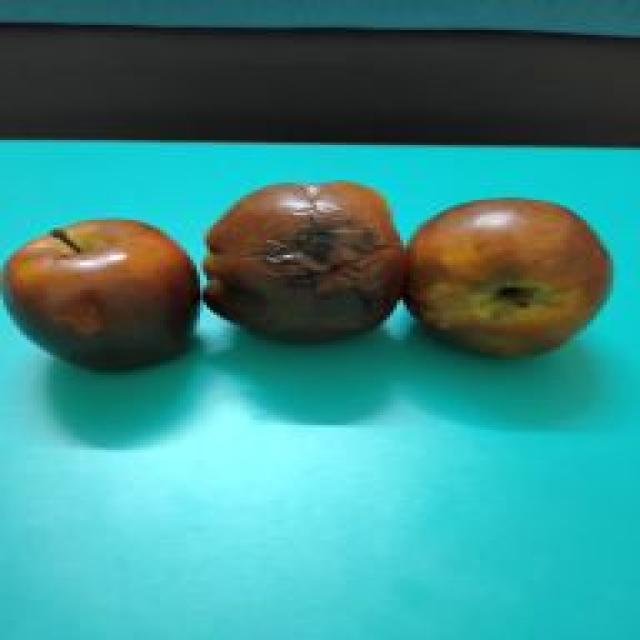Bad_Apple: (205, 181, 403, 339)
